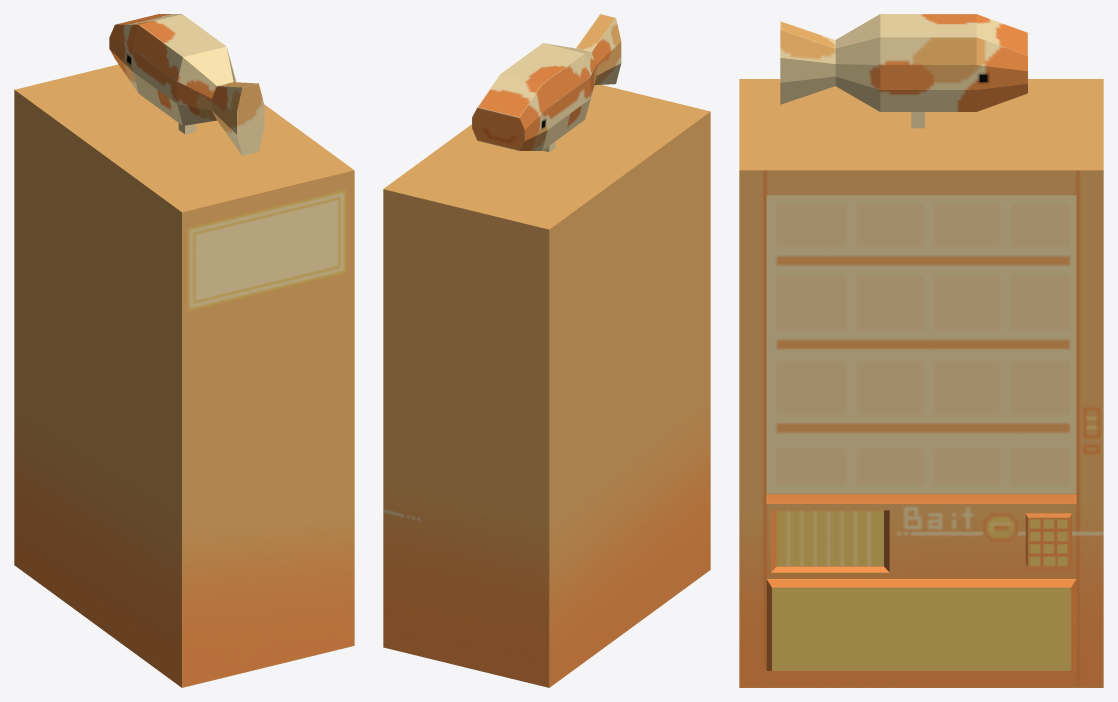
Rendered from vending_machine_fbx.fbx.
3 views of the same model, side by side, from view 1: azimuth 30°, elevation 25°; view 2: azimuth 150°, elevation 25°; view 3: azimuth 270°, elevation 25° (orthographic). The views are drawn at different scales.
Parts seen in each view (by area): view 1: cube, cuboid_1; view 2: cube, cuboid_1; view 3: cube, cube_1, cuboid_1, cuboid.
Part boxes in pixels (x1,y1,x2,y2): cube: (14,64,354,687); cuboid_1: (109,14,264,155); cube: (383,85,710,687); cuboid_1: (472,14,621,150); cube: (739,79,1103,687); cube_1: (766,195,1076,494); cuboid_1: (780,14,1027,111); cuboid: (1025,513,1071,567).
Bounding box in the file's own units: 103 × 309 × 166.
5 materials, 5 textured.
